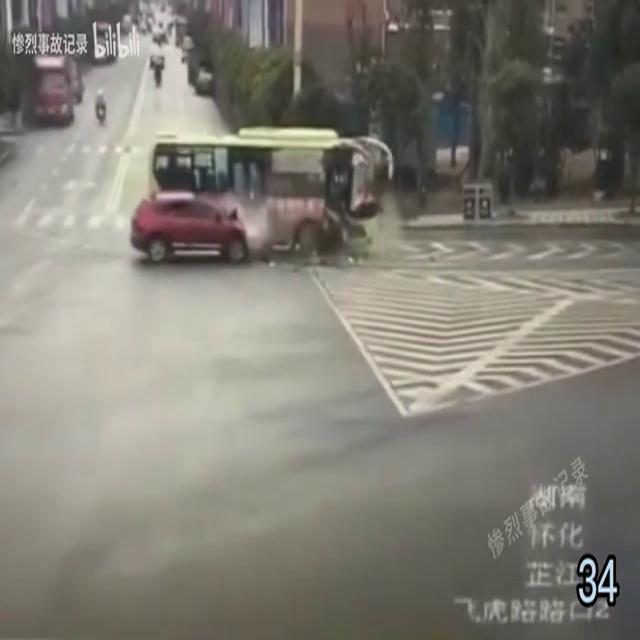accident: (126, 124, 396, 278)
non-accident: (25, 52, 109, 130), (143, 48, 167, 90)
